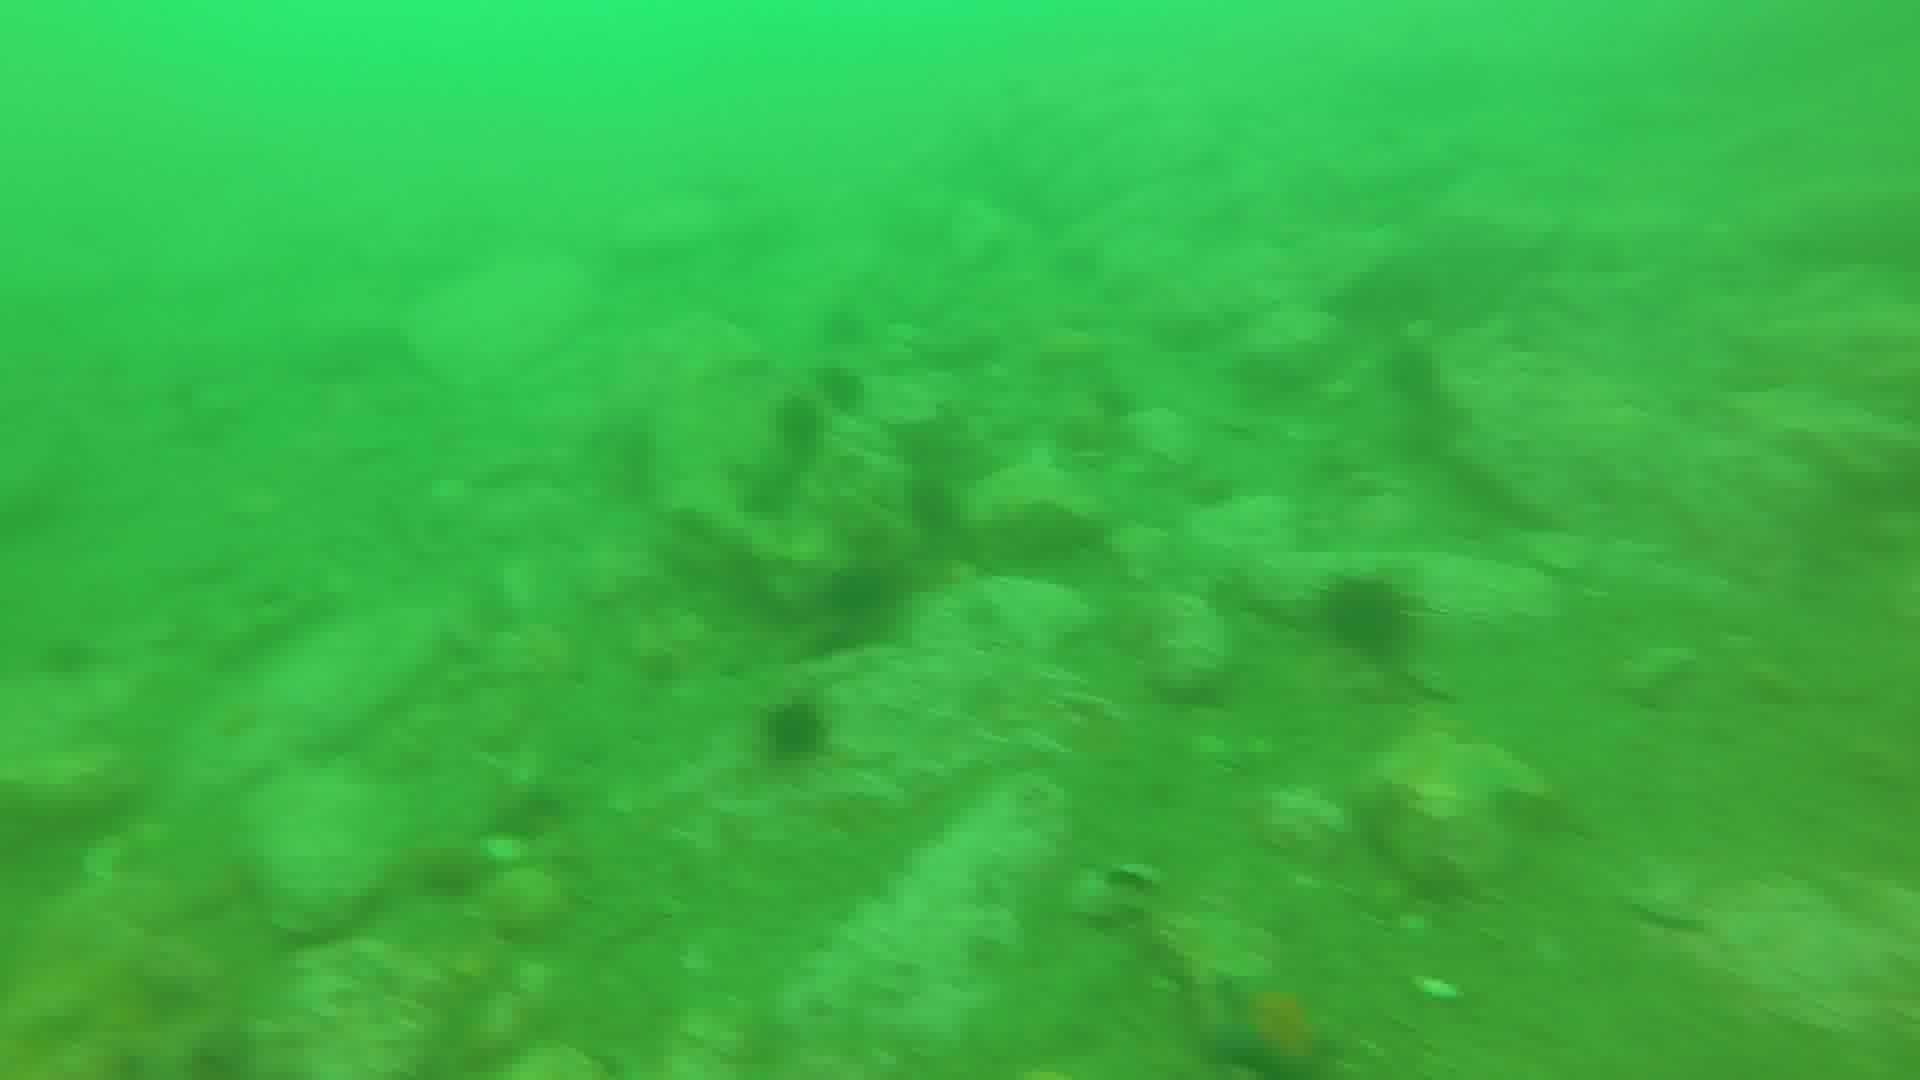echinus: (1313, 571, 1422, 666), (814, 555, 911, 647), (754, 694, 835, 767), (1377, 339, 1447, 409), (767, 392, 832, 464), (901, 473, 967, 541), (810, 360, 872, 418)
starfish: (1197, 967, 1342, 1077)
